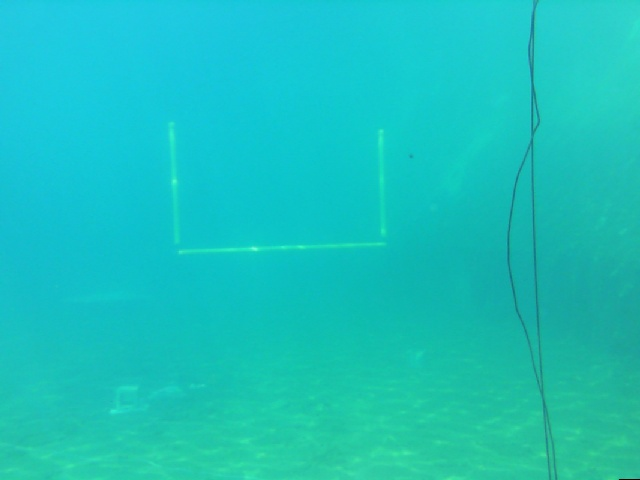channel: (164, 120, 393, 251)
